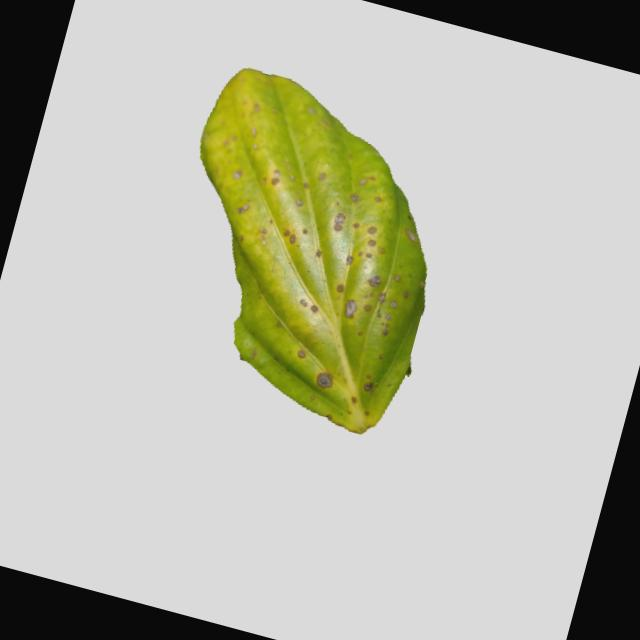yellow-mottle-virus: (127, 50, 482, 441)
